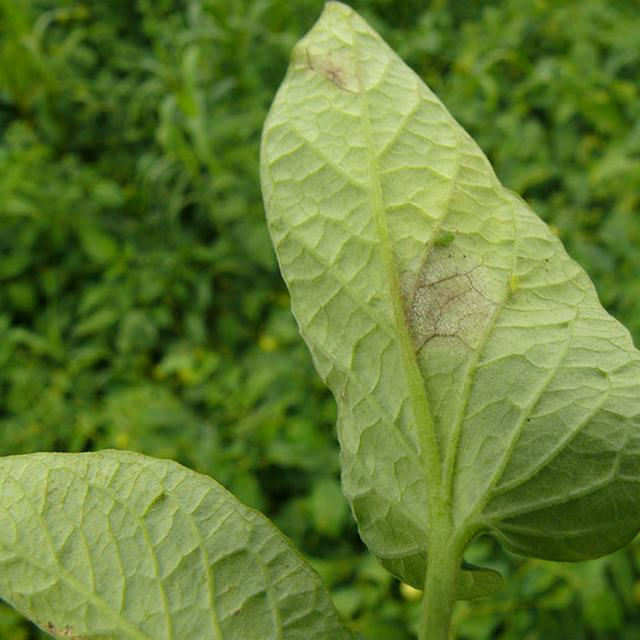Tomato leaf late blight: (248, 0, 640, 610)
